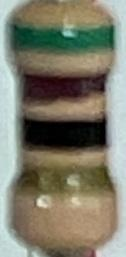Black: (17, 113, 109, 148)
Brown: (19, 70, 107, 103)
Green: (11, 23, 115, 53)
Side-Gold: (9, 163, 117, 195)
